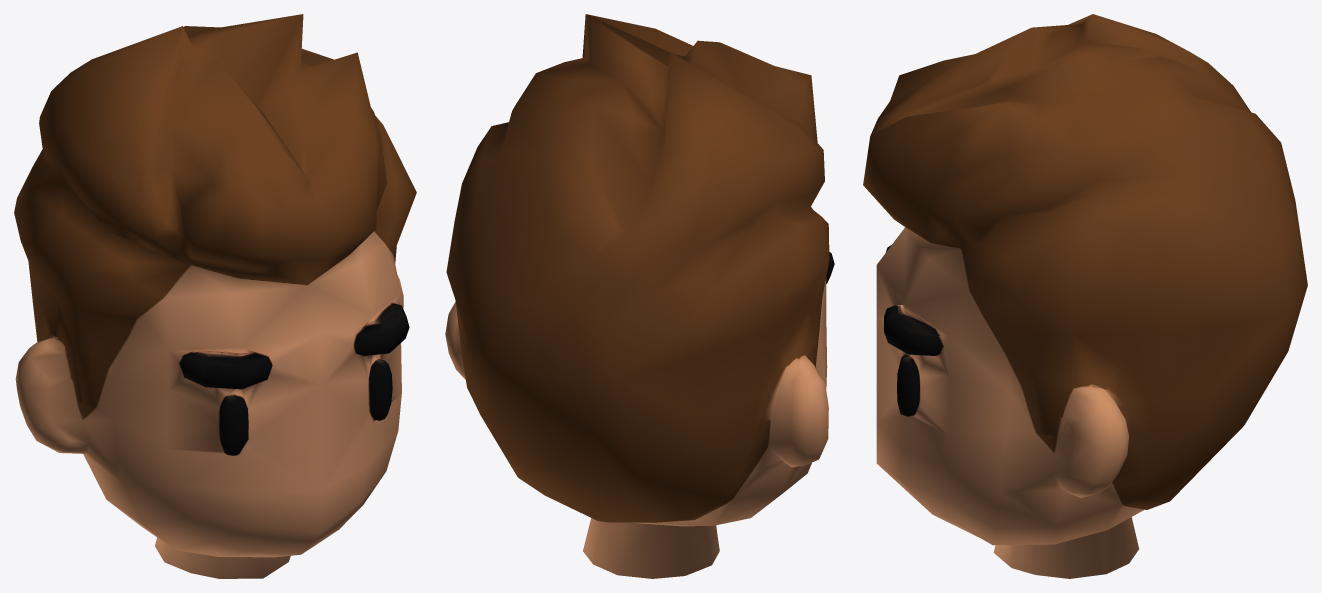
The model's file is hy3-facetas-a.glb.
3 renders of one model, left to right at view 1: azimuth 30°, elevation 25°; view 2: azimuth 150°, elevation 25°; view 3: azimuth 270°, elevation 25°, orthographic.
Parts seen in each view (by area): view 1: material; view 2: material; view 3: material.
Part boxes in pixels (left/top/right/bottom): material: left=14, top=14, right=416, bottom=578; material: left=445, top=14, right=834, bottom=578; material: left=863, top=14, right=1307, bottom=578.
Size of the model in its own units: 1.44 by 1.9 by 1.46.
1 material, 1 textured.
